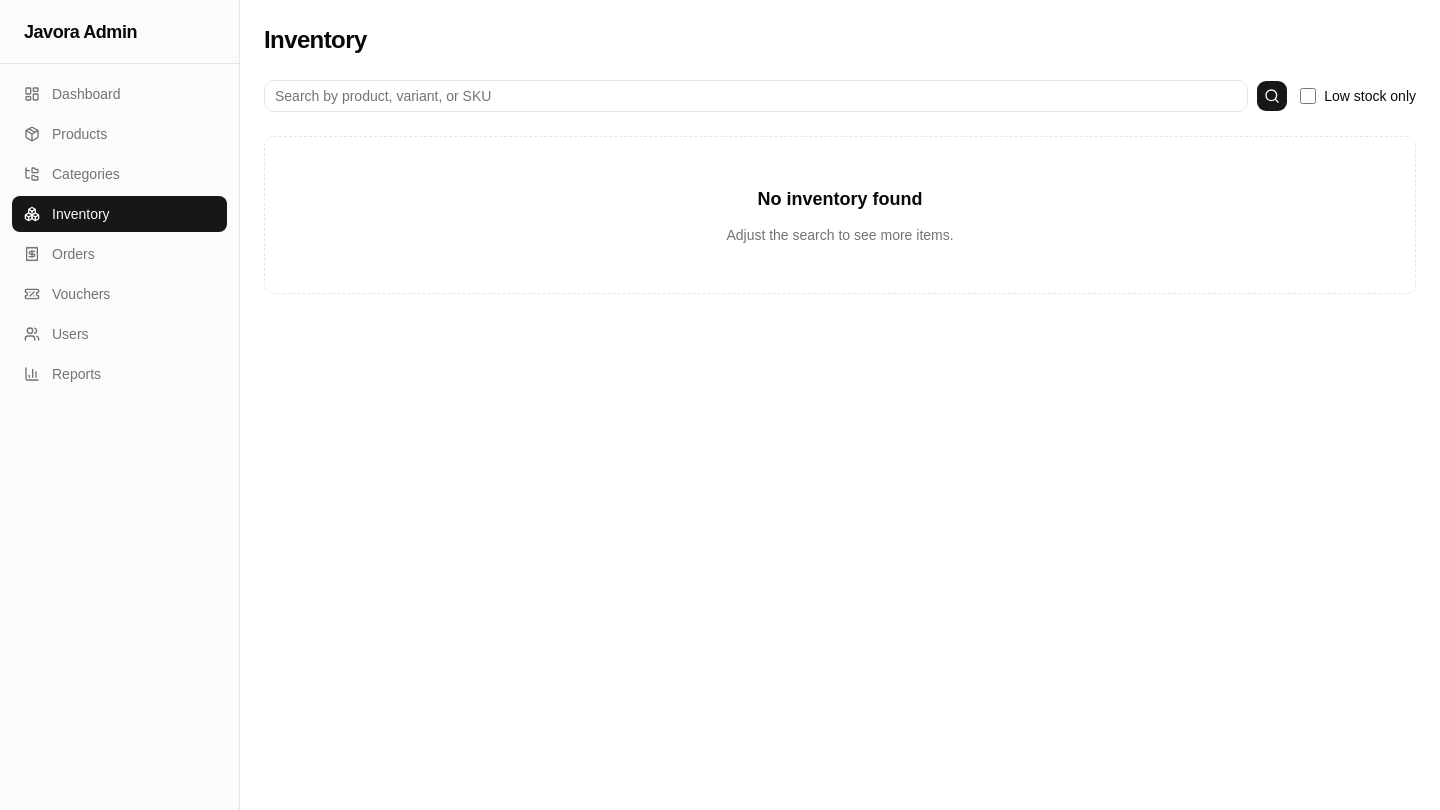
Test: admin inventory › passes the low stock filter to the API
Click the checkbox labelled "Low stock only" at (1308, 96), box [1300,88,1316,104]
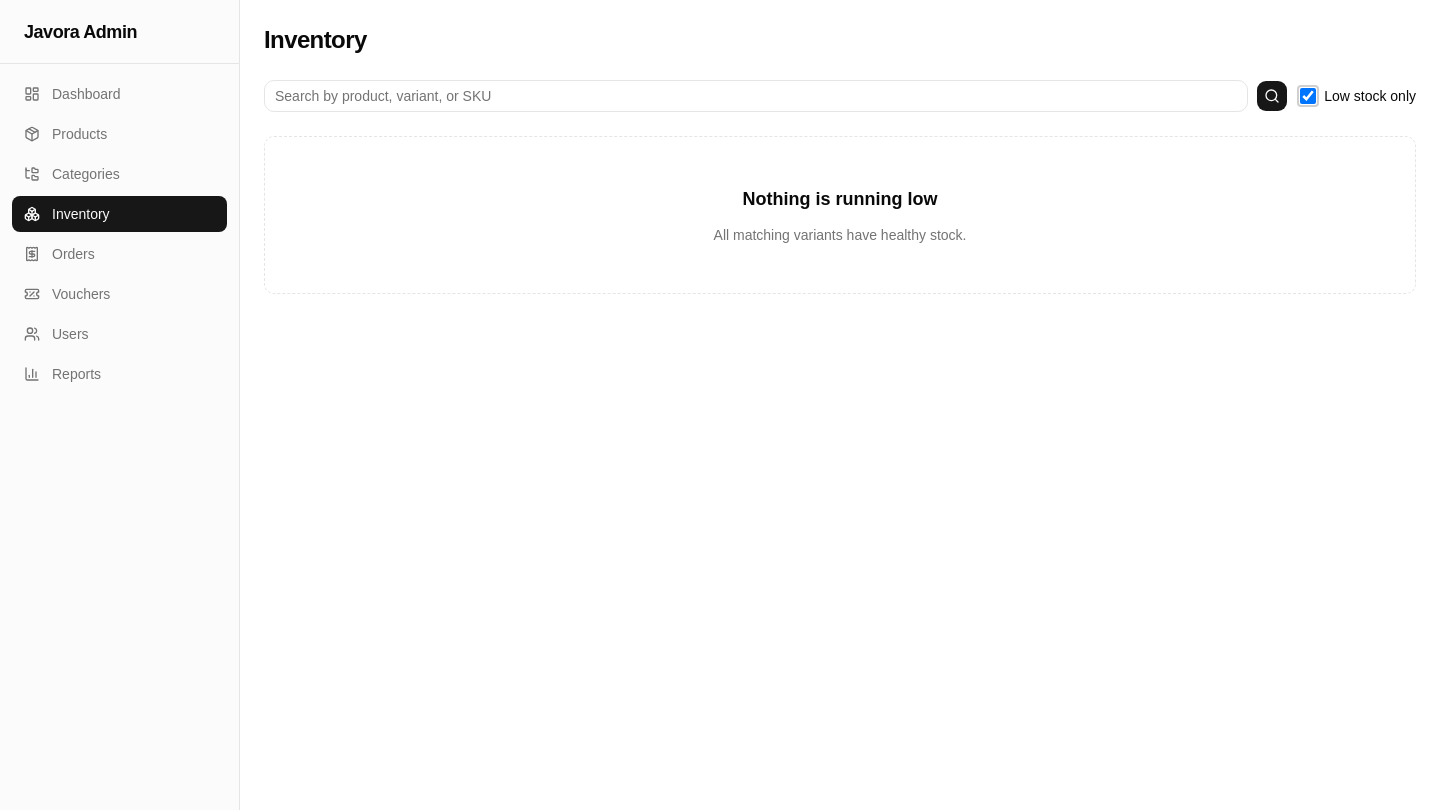
expect the heading "Nothing is running low" is shown: met, box [742,185,938,213]
